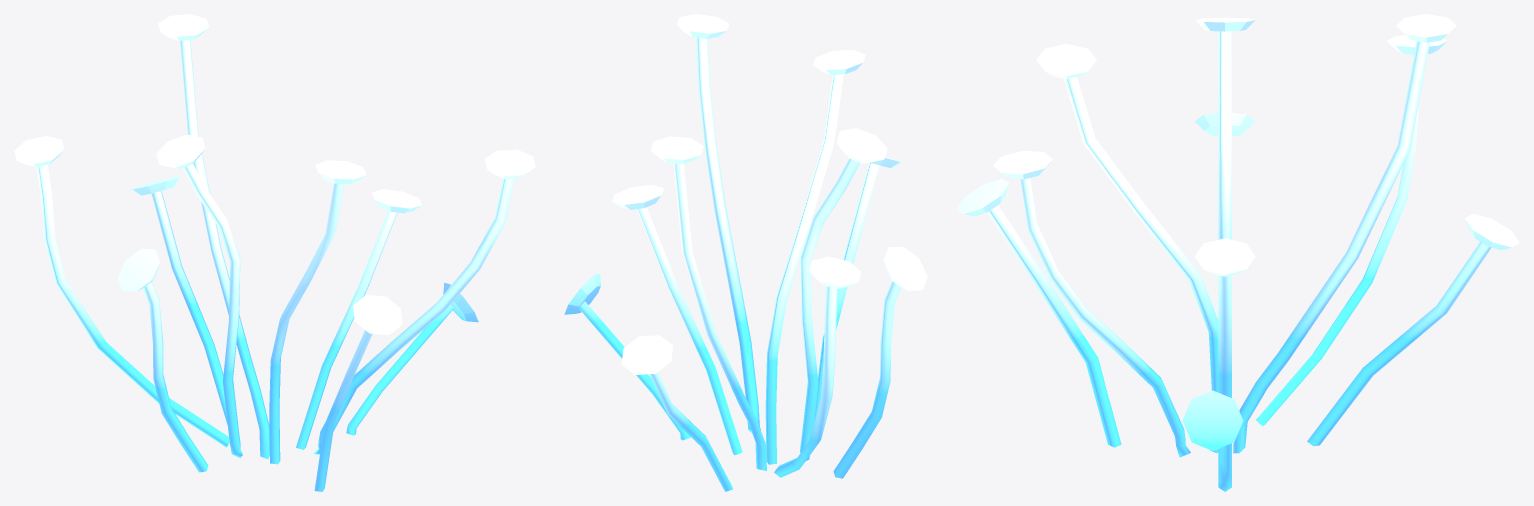
The model's file is lightplant3.fbx.
3 views of the same model, side by side, from view 1: azimuth 30°, elevation 25°; view 2: azimuth 150°, elevation 25°; view 3: azimuth 270°, elevation 25° (orthographic). The views are drawn at different scales.
Parts seen in each view (by area): view 1: Cube.009.frozen; view 2: Cube.009.frozen; view 3: Cube.009.frozen.
Part boxes in pixels (x1,y1,x2,y2): Cube.009.frozen: [14, 14, 535, 491]; Cube.009.frozen: [564, 14, 927, 491]; Cube.009.frozen: [956, 14, 1519, 491].
Size of the model in its own units: 71.39 by 69.45 by 82.81.
1 material, 1 textured.
